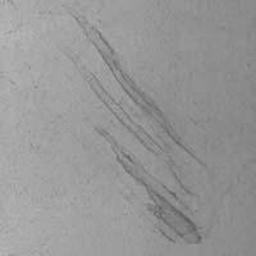Water spot: (52, 15, 212, 198), (72, 124, 204, 246)
